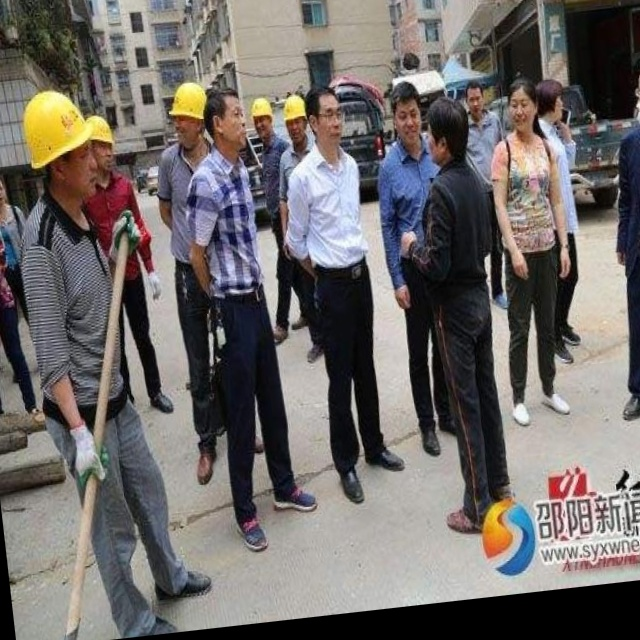Sin_Casco_Mascarrilla: (200, 88, 251, 156), (304, 82, 346, 152)
Sin_Chaleco: (182, 158, 265, 302), (288, 151, 373, 279)
